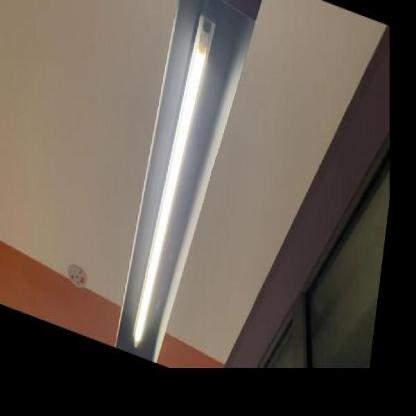light_on: (122, 0, 219, 371)
